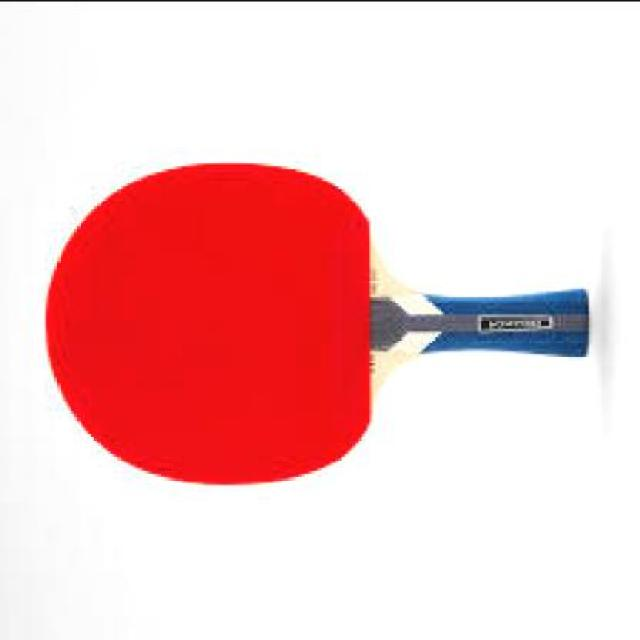table_tennis_racket: (42, 156, 396, 492)
